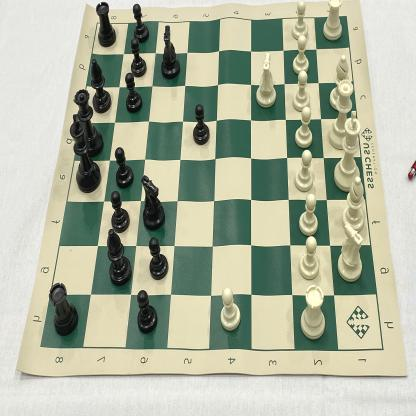black-bishop: (107, 232, 133, 285), (91, 58, 111, 113)
black-king: (68, 113, 102, 193)
black-knight: (141, 172, 167, 231), (161, 24, 181, 80)
black-pawn: (147, 235, 170, 281), (109, 189, 130, 233), (137, 290, 159, 332), (192, 102, 210, 146), (115, 146, 134, 186), (132, 1, 150, 43), (125, 74, 142, 114), (130, 39, 147, 77)
black-queen: (72, 87, 102, 157)
black-rook: (49, 278, 78, 336), (94, 0, 117, 48)
white-bishop: (341, 175, 365, 233), (329, 53, 351, 110)
white-king: (334, 109, 362, 191)
white-knight: (336, 218, 365, 283), (253, 49, 278, 113)
white-pawn: (298, 193, 322, 240), (299, 236, 323, 280), (292, 107, 316, 148), (218, 288, 240, 332), (294, 150, 316, 192), (292, 70, 314, 110), (290, 36, 312, 74), (292, 0, 308, 40)
white-queen: (328, 78, 354, 149)
white-rook: (300, 283, 326, 339), (322, 0, 344, 42)
